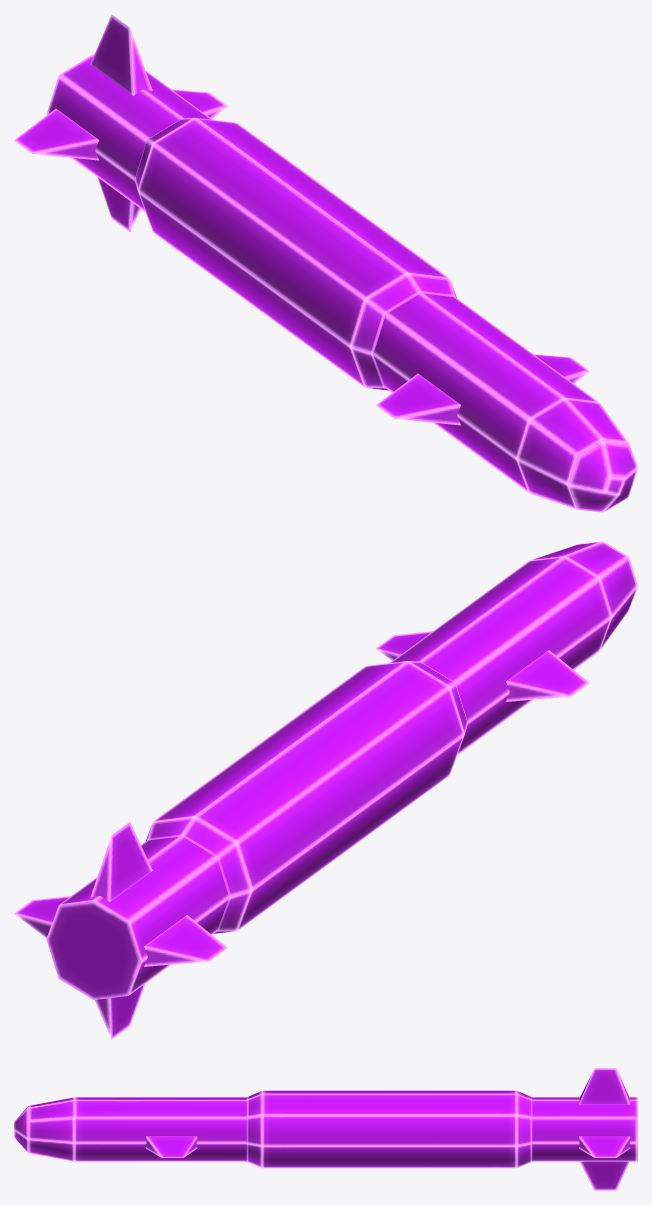
File: torpedo.FBX
3 views of the same model, one above another, from view 1: azimuth 30°, elevation 25°; view 2: azimuth 150°, elevation 25°; view 3: azimuth 270°, elevation 25° (orthographic). The views are drawn at different scales.
Visible parts, largest first — view 1: torpedo; view 2: torpedo; view 3: torpedo.
Part boxes in pixels (left/top/right/bottom): torpedo: left=14, top=14, right=637, bottom=512; torpedo: left=14, top=541, right=637, bottom=1039; torpedo: left=14, top=1068, right=637, bottom=1190.
Size of the model in its own units: 5.3 by 5.3 by 24.48.
